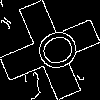O: (25, 25, 82, 79)
